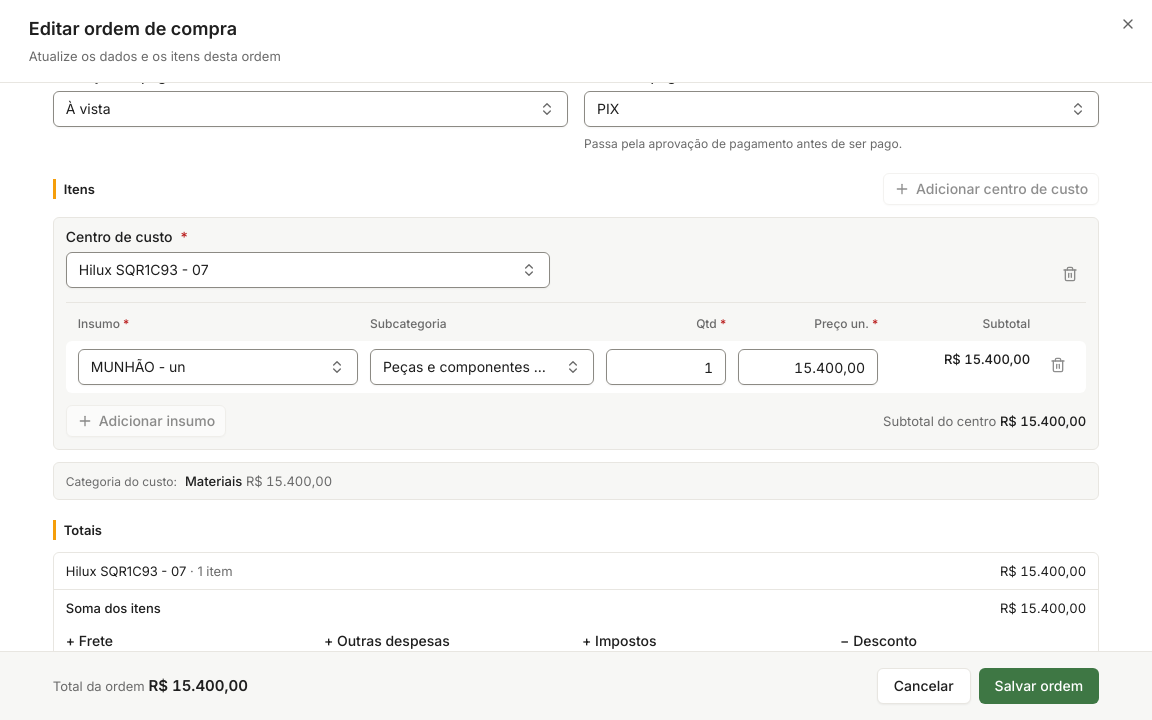
it: trocar a categoria do insumo dentro da OC › cancelar não salva a ordem nem reclassifica nada
(page scrolled)
Click the dropdown named "subcategoria" at (482, 367), box [370,349,594,385]
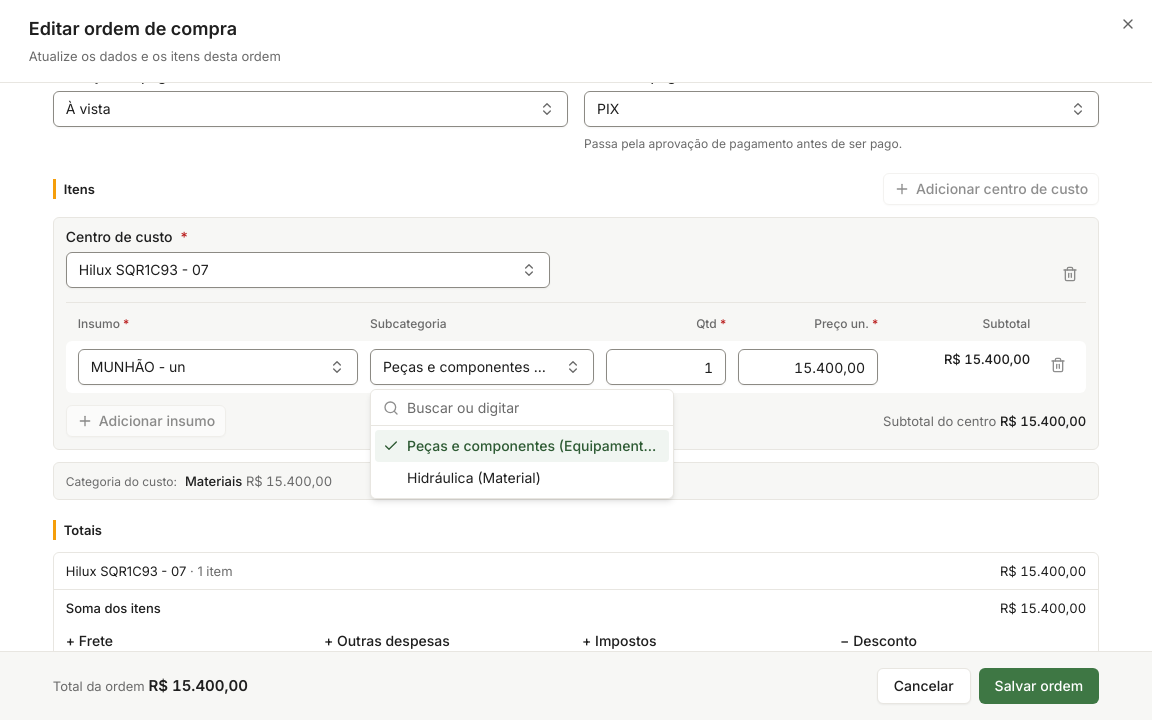
Click the option "Hidráulica (Material)" at (474, 478), box [407,469,541,486]
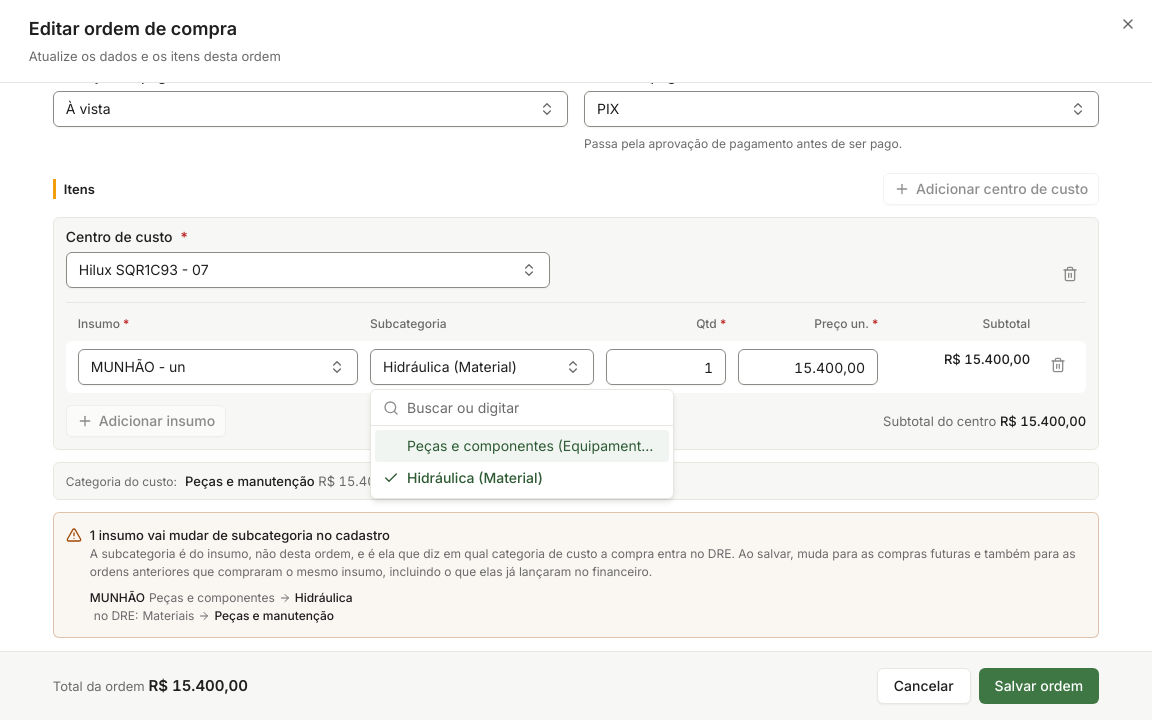
Click the button "Salvar ordem" at (1039, 686), box [979,668,1099,704]
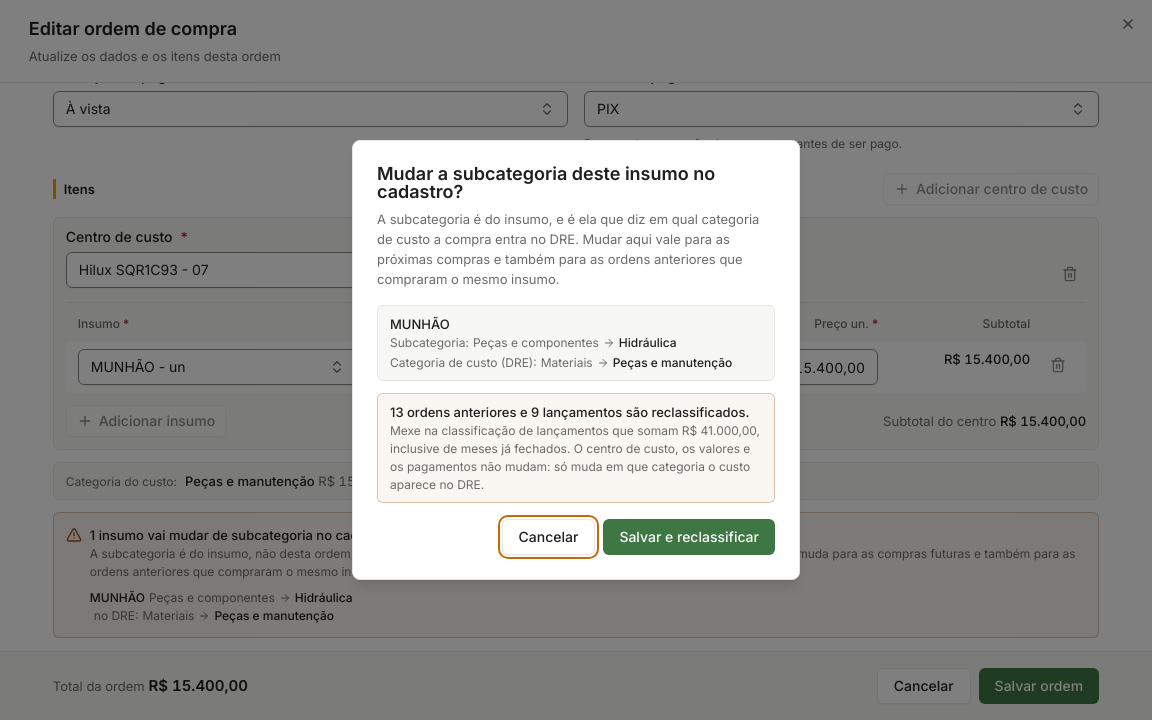
Click the button "Cancelar" at (548, 537), box [502,519,595,555]
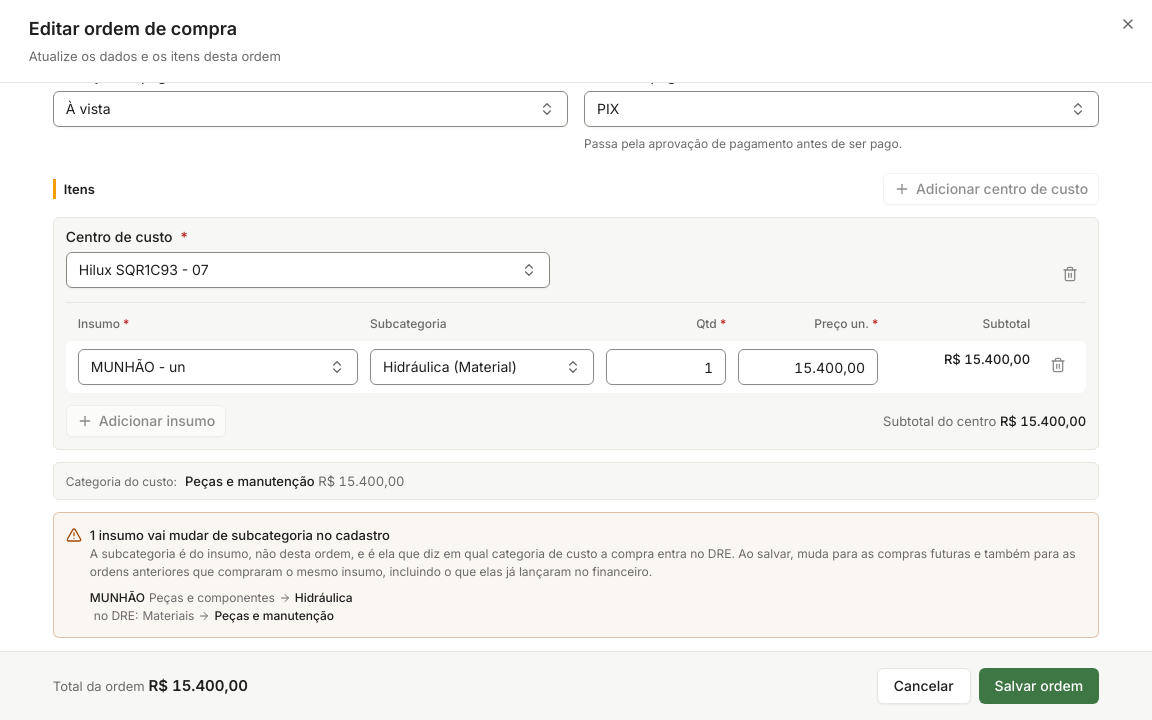
expect the button "Salvar e reclassificar" is gone: met
